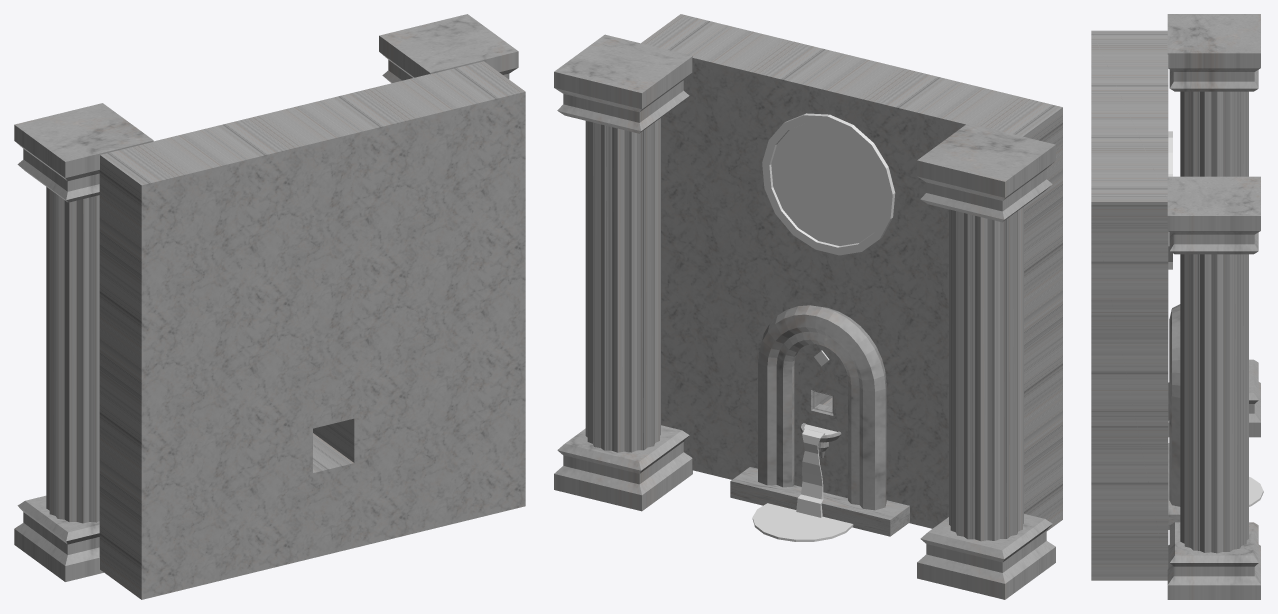
Rendered from CharonCollectorNoHand.fbx.
3 views of the same model, side by side, from view 1: azimuth 30°, elevation 25°; view 2: azimuth 150°, elevation 25°; view 3: azimuth 270°, elevation 25° (orthographic). The views are drawn at different scales.
Parts seen in each view (by area): view 1: Wall, Cylinder.002, Cube.005, Cube.004, Cube.003; view 2: Wall, Cylinder.001, Cylinder.002, Sign, 2, Cube.004, Cube.005, Cube.002, Cube.003, 1, Plane, Cube (+3 smaller); view 3: Wall, Cylinder.001, Cube.004, Cube.005, Cylinder.002, Cube.002, 2, Cube.003, Cube, Sign, WaterFloor.
Boxes of the visible parts, box(x1,y1,x2,y2) form: Wall: box(99, 61, 525, 599); Cylinder.002: box(46, 187, 99, 523); Cube.005: box(14, 103, 153, 202); Cube.004: box(379, 14, 518, 83); Cube.003: box(14, 495, 103, 581); Wall: box(641, 14, 1062, 531); Cylinder.001: box(585, 118, 660, 452); Cylinder.002: box(949, 206, 1023, 541); Sign: box(762, 113, 895, 255); 2: box(758, 305, 886, 510); Cube.004: box(554, 34, 692, 133); Cube.005: box(917, 123, 1055, 222); Cube.002: box(554, 425, 692, 511); Cube.003: box(917, 514, 1055, 599); 1: box(776, 331, 859, 504); Plane: box(794, 364, 847, 498); Cube: box(730, 467, 909, 536); Wall: box(1091, 30, 1168, 580); Cylinder.001: box(1180, 254, 1248, 553); Cube.004: box(1167, 176, 1260, 254); Cube.005: box(1167, 14, 1260, 91); Cylinder.002: box(1180, 91, 1248, 176); Cube.002: box(1167, 522, 1260, 599); 2: box(1169, 304, 1180, 506); Cube.003: box(1168, 359, 1260, 437); Cube: box(1168, 443, 1180, 529); Sign: box(1168, 131, 1172, 269); WaterFloor: box(1249, 477, 1263, 506).
Bounding box in the file's own units: 1243 × 1100 × 447.
2 materials, 1 textured.
